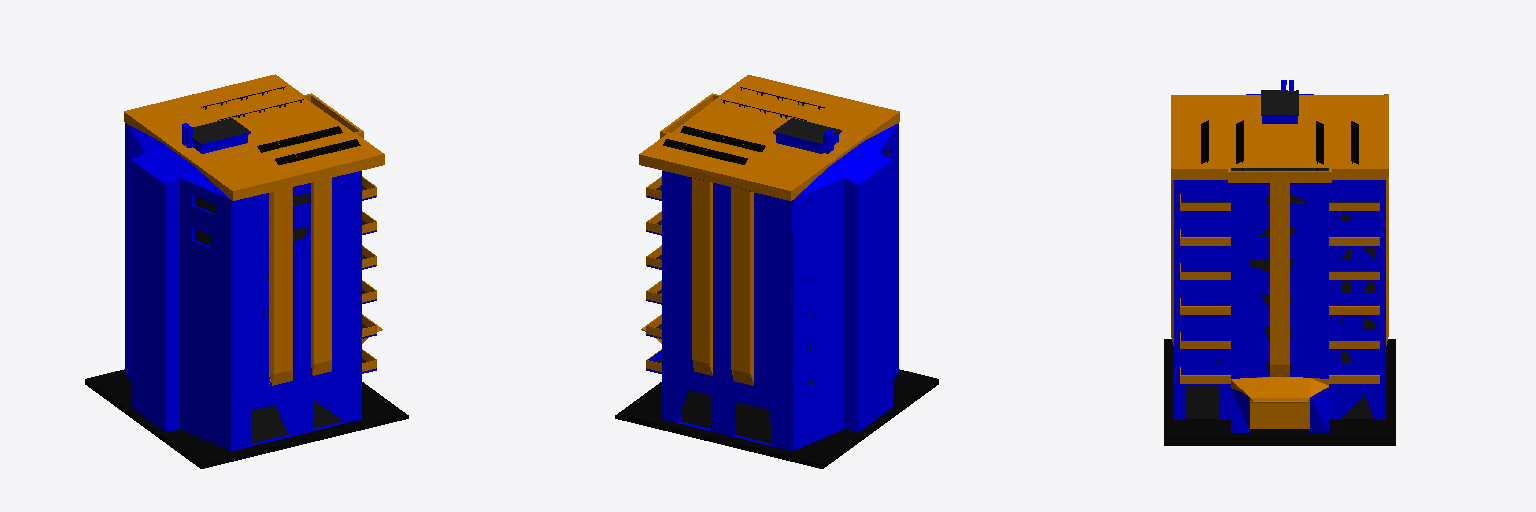
File: EdificioJoinedNoTex.obj
3 renders of one model, left to right at view 1: azimuth 30°, elevation 25°; view 2: azimuth 150°, elevation 25°; view 3: azimuth 270°, elevation 25°, orthographic.
Visible parts, largest first — view 1: Panel_Solar2_Cubo.003; view 2: Panel_Solar2_Cubo.003; view 3: Panel_Solar2_Cubo.003.
Boxes of the visible parts, box(x1,y1,x2,y2) form: Panel_Solar2_Cubo.003: box(85, 74, 408, 468); Panel_Solar2_Cubo.003: box(615, 75, 938, 468); Panel_Solar2_Cubo.003: box(1164, 80, 1395, 445).
Size of the model in its own units: 8.64 by 10.49 by 7.7.